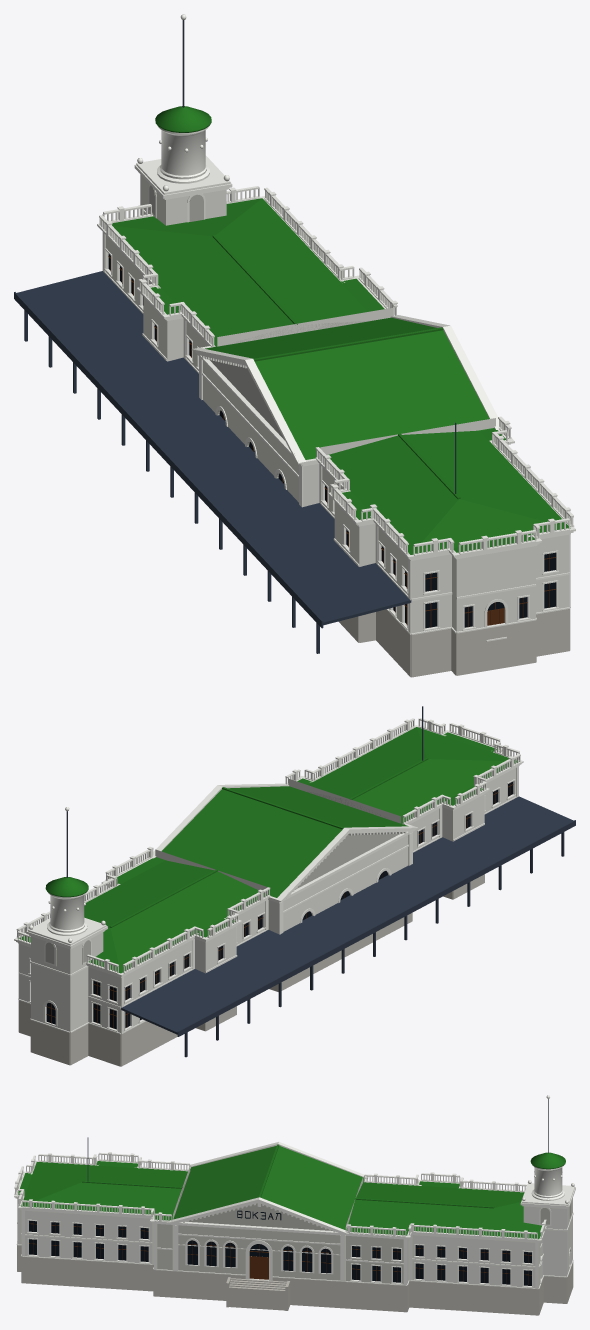
File: zd_vokzal.glb
3 renders of one model, top to bottom at view 1: azimuth 30°, elevation 25°; view 2: azimuth 150°, elevation 25°; view 3: azimuth 270°, elevation 25°, orthographic. The views are drawn at different scales.
Visible parts, largest first — view 1: zd_vokzal_roof, zd_vokzal_metal, zd_vokzal_trim, zd_vokzal_wall2, zd_vokzal_stone, zd_vokzal_trim_s, zd_vokzal_glass, zd_vokzal_wall3, zd_vokzal_wood; view 2: zd_vokzal_roof, zd_vokzal_metal, zd_vokzal_trim, zd_vokzal_wall2, zd_vokzal_stone, zd_vokzal_glass, zd_vokzal_wall3, zd_vokzal_trim_s, zd_vokzal_wood; view 3: zd_vokzal_roof, zd_vokzal_trim, zd_vokzal_stone, zd_vokzal_wall2, zd_vokzal_wall, zd_vokzal_glass, zd_vokzal_wall3, zd_vokzal_wood, zd_vokzal_trim_s.
Boxes of the visible parts, bbox=[...] form: zd_vokzal_roof: bbox=[112, 106, 570, 554]; zd_vokzal_metal: bbox=[14, 20, 456, 653]; zd_vokzal_trim: bbox=[97, 14, 575, 641]; zd_vokzal_wall2: bbox=[105, 174, 569, 633]; zd_vokzal_stone: bbox=[338, 608, 570, 677]; zd_vokzal_trim_s: bbox=[157, 126, 209, 183]; zd_vokzal_glass: bbox=[108, 254, 555, 628]; zd_vokzal_wall3: bbox=[149, 185, 284, 440]; zd_vokzal_wood: bbox=[108, 256, 555, 627]; zd_vokzal_roof: bbox=[19, 727, 516, 973]; zd_vokzal_metal: bbox=[66, 706, 575, 1057]; zd_vokzal_trim: bbox=[14, 718, 523, 1034]; zd_vokzal_wall2: bbox=[19, 768, 515, 1032]; zd_vokzal_stone: bbox=[18, 874, 484, 1066]; zd_vokzal_glass: bbox=[46, 781, 512, 1029]; zd_vokzal_wall3: bbox=[45, 833, 400, 964]; zd_vokzal_trim_s: bbox=[47, 892, 87, 935]; zd_vokzal_wood: bbox=[46, 783, 513, 1028]; zd_vokzal_roof: bbox=[18, 1144, 565, 1239]; zd_vokzal_trim: bbox=[14, 1095, 575, 1289]; zd_vokzal_stone: bbox=[17, 1245, 573, 1315]; zd_vokzal_wall2: bbox=[17, 1166, 572, 1287]; zd_vokzal_wall: bbox=[157, 1173, 403, 1284]; zd_vokzal_glass: bbox=[29, 1210, 531, 1285]; zd_vokzal_wall3: bbox=[185, 1203, 571, 1230]; zd_vokzal_wood: bbox=[29, 1221, 531, 1285]; zd_vokzal_trim_s: bbox=[531, 1165, 564, 1200].
Size of the model in its own units: 35.96 by 32.2 by 82.58.
